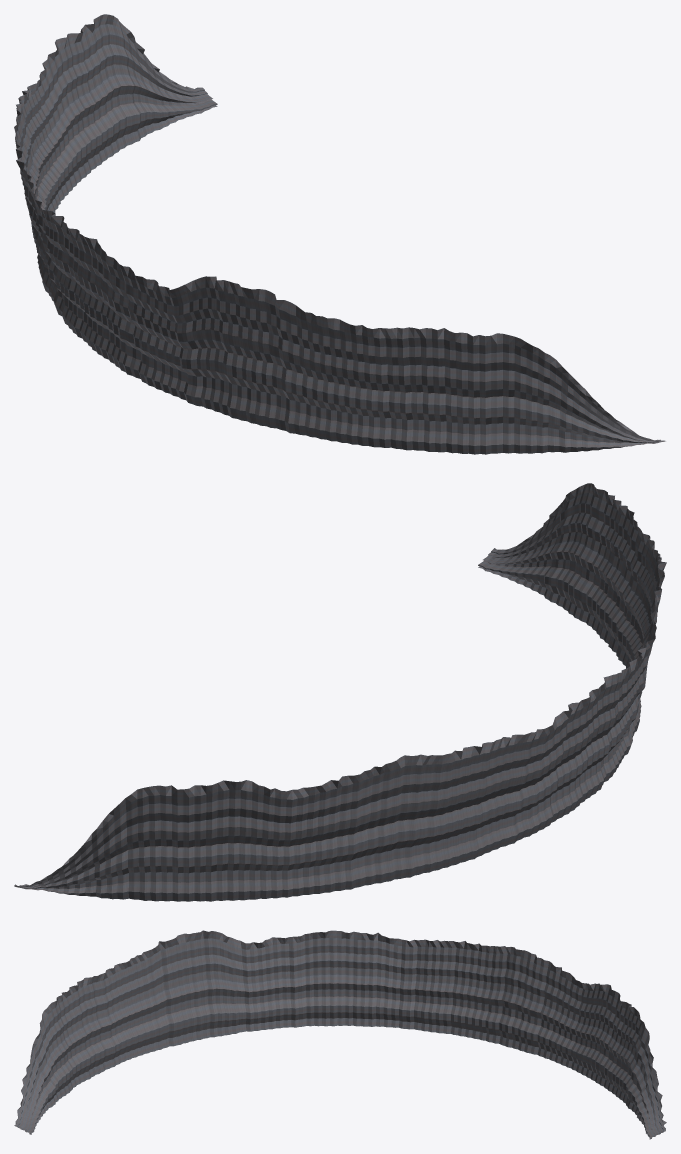
The model's file is cliff-ring-v1.glb.
3 renders of one model, top to bottom at view 1: azimuth 30°, elevation 25°; view 2: azimuth 150°, elevation 25°; view 3: azimuth 270°, elevation 25°, orthographic. The views are drawn at different scales.
Parts seen in each view (by area): view 1: CliffRing; view 2: CliffRing; view 3: CliffRing.
Part boxes in pixels (box(x1,y1,x2,y2)): CliffRing: box(14, 14, 665, 454); CliffRing: box(14, 483, 666, 901); CliffRing: box(14, 930, 666, 1139).
Size of the model in its own units: 196 by 75.44 by 445.
Materials: 1 (1 with a texture image).
